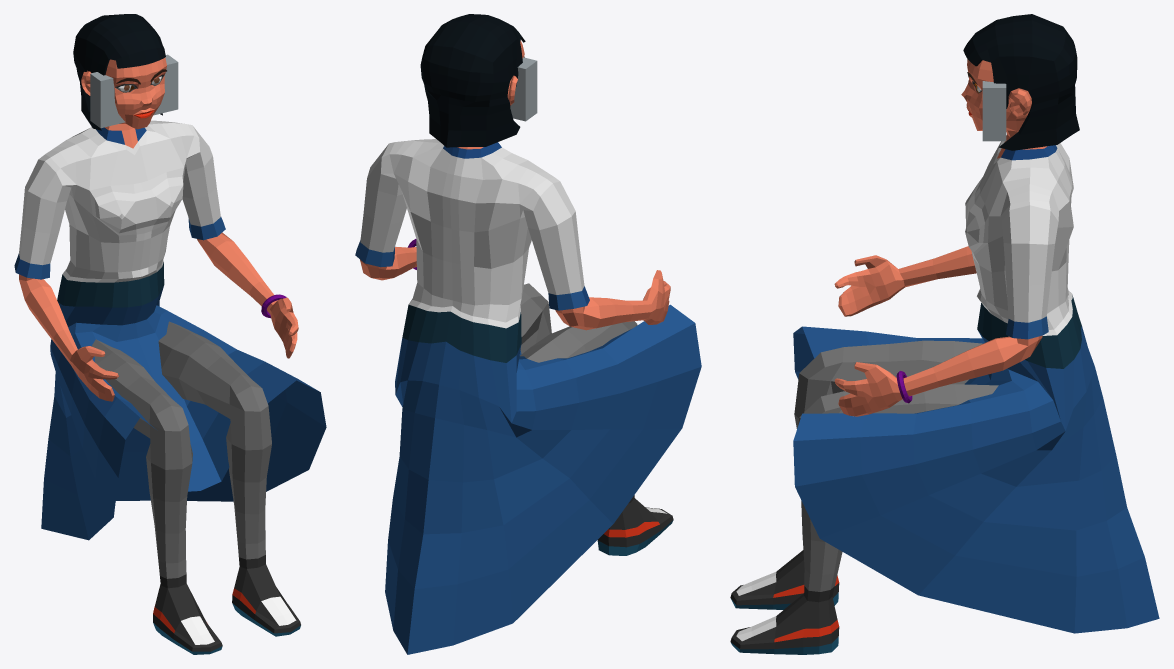
Rendered from StudentFemale_Sit_Mask.fbx.
3 views of the same model, side by side, from view 1: azimuth 30°, elevation 25°; view 2: azimuth 150°, elevation 25°; view 3: azimuth 270°, elevation 25° (orthographic). The views are drawn at different scales.
Parts seen in each view (by area): view 1: StudentFemale_Sit_Mask; view 2: StudentFemale_Sit_Mask; view 3: StudentFemale_Sit_Mask.
Part boxes in pixels (x1,y1,x2,y2): StudentFemale_Sit_Mask: (14,14,326,654); StudentFemale_Sit_Mask: (355,14,701,654); StudentFemale_Sit_Mask: (730,14,1159,654).
Size of the model in its own units: 0.2686 by 0.6209 by 0.4004.
